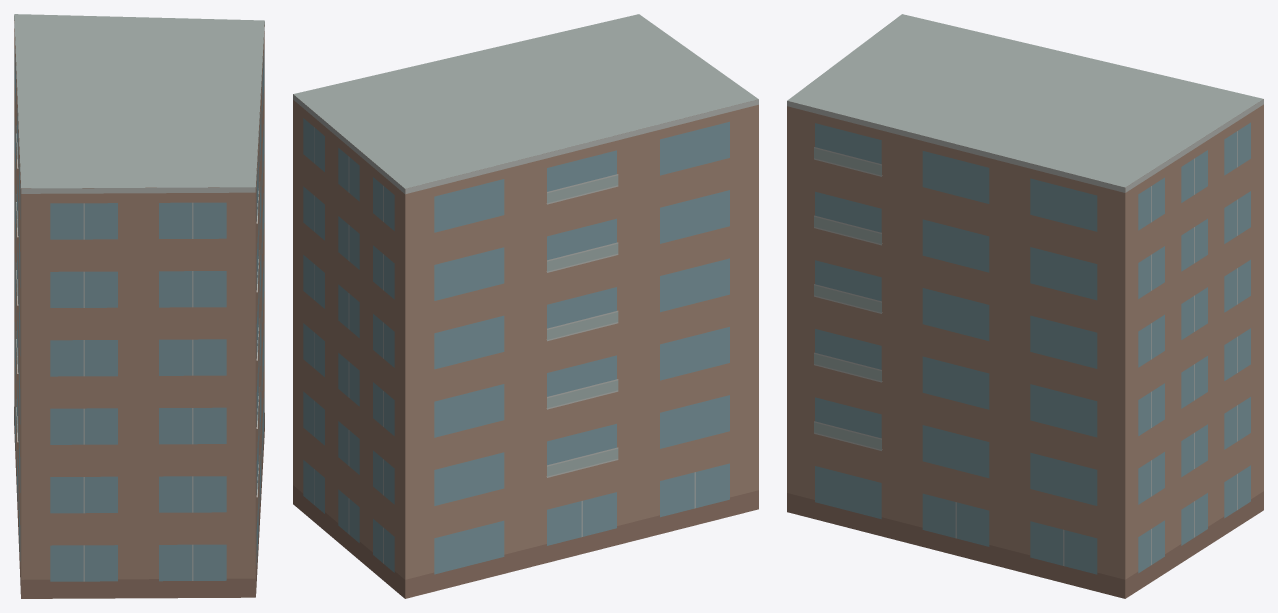
The model's file is survey-upis-32963186.glb.
3 renders of one model, left to right at view 1: azimuth 30°, elevation 25°; view 2: azimuth 150°, elevation 25°; view 3: azimuth 270°, elevation 25°, orthographic.
Visible parts, largest first — view 1: survey-upis-32963186.tmp; view 2: survey-upis-32963186.tmp; view 3: survey-upis-32963186.tmp.
Part boxes in pixels (x1=…): survey-upis-32963186.tmp: x1=14, y1=14, x2=264, y2=598; survey-upis-32963186.tmp: x1=293, y1=14, x2=758, y2=598; survey-upis-32963186.tmp: x1=787, y1=14, x2=1263, y2=598.
Size of the model in its own units: 16.57 by 18.3 by 19.23.
